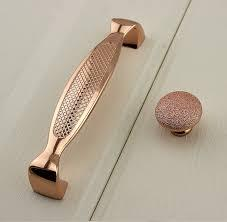handle: (20, 26, 146, 202), (155, 91, 213, 146)
